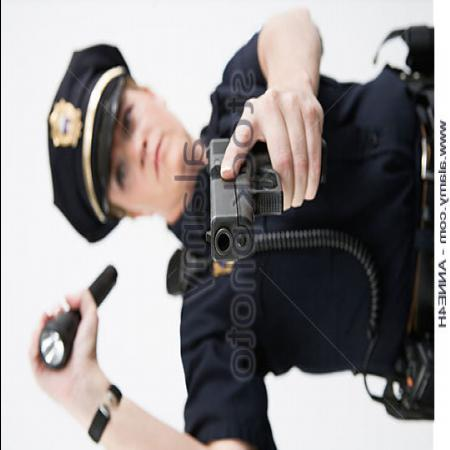Pistol: (201, 131, 327, 263)
